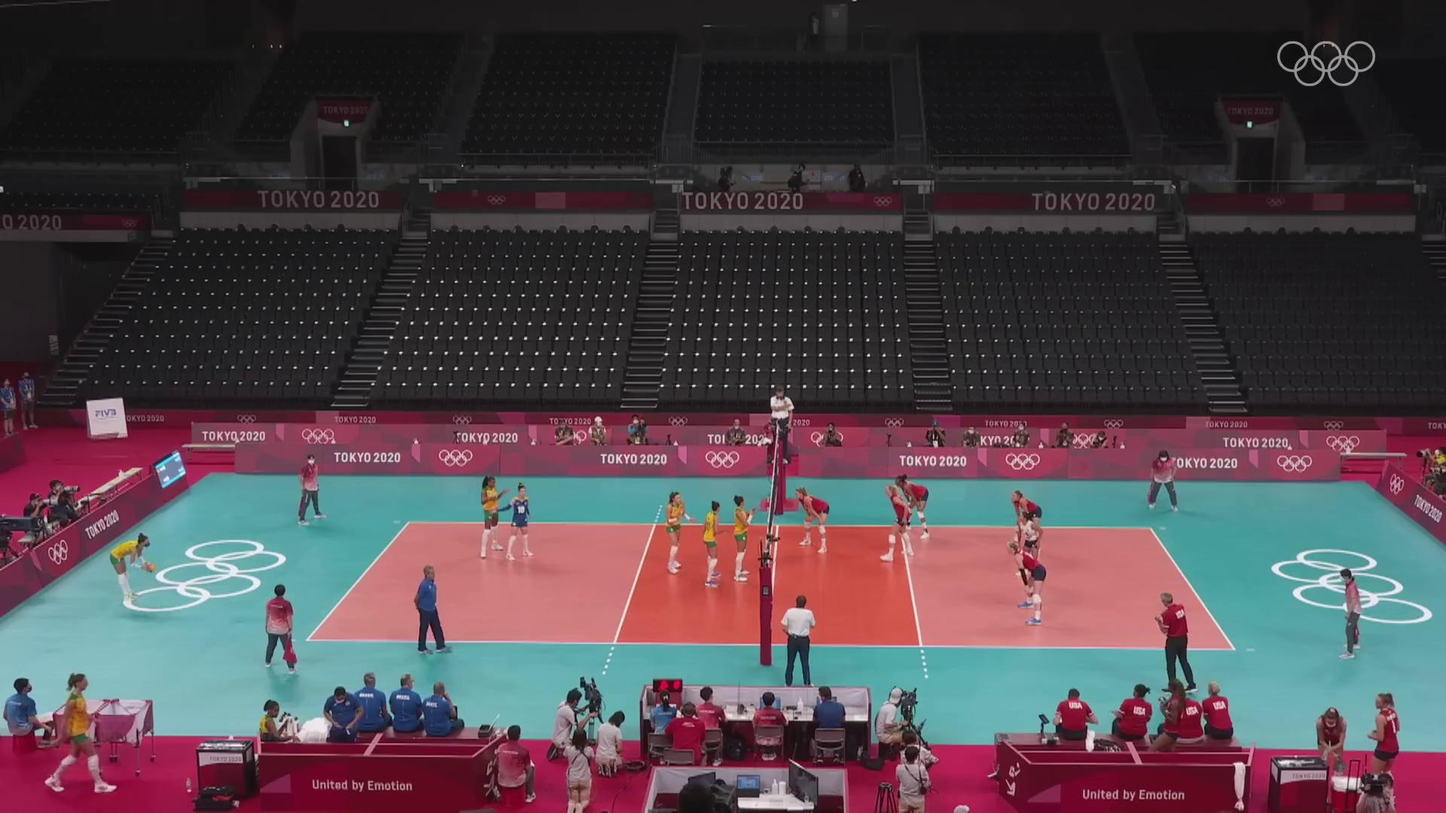player: (107, 532, 154, 606), (1008, 540, 1046, 629), (661, 490, 696, 576), (895, 473, 934, 540), (882, 484, 914, 562), (505, 483, 535, 564), (794, 488, 830, 555), (701, 500, 728, 588), (730, 494, 757, 581), (479, 474, 506, 558), (1012, 489, 1042, 560), (1017, 513, 1045, 579)
refree: (260, 587, 300, 672), (780, 597, 817, 684), (1340, 568, 1365, 660), (1149, 452, 1181, 511), (298, 454, 324, 525), (770, 388, 794, 461)
